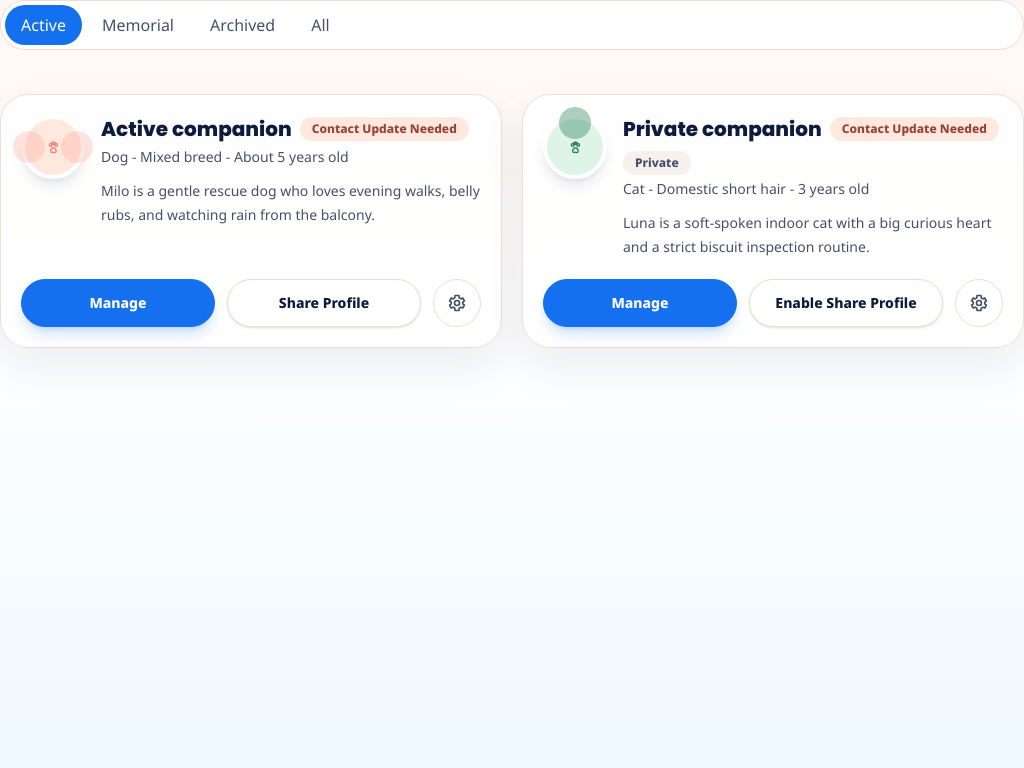
Test: keeps every status filter directly named and preserves filter semantics
Check: the heading "Active companion" is shown, box 101,115 -> 292,143
Check: the text "Private" is shown, box 623,151 -> 691,175
Click the tab "Memorial".
click(138, 25)  # box 86,5 -> 190,45
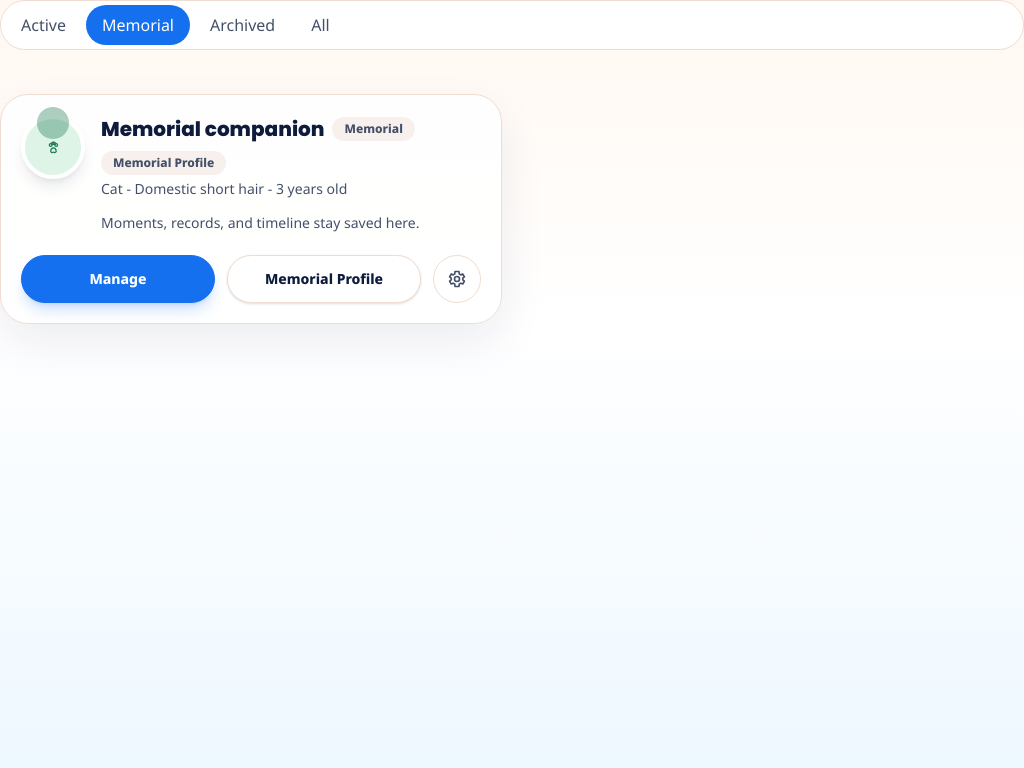
Check: the text "Memorial" next to "Memorial companion" is shown, box 344,120 -> 403,137
Click the tab "Archived".
click(243, 25)  # box 194,5 -> 291,45
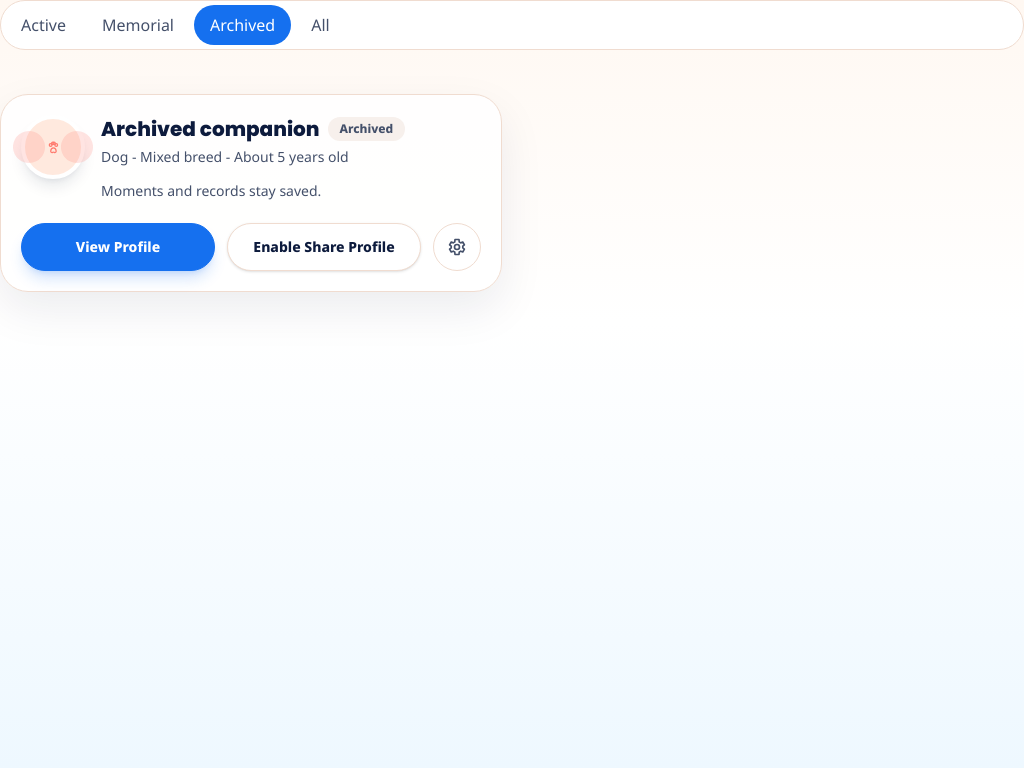
Check: the text "Archived" next to "Archived companion" is shown, box 340,120 -> 393,137
Check: the text "Moments and records stay saved." is shown, box 101,181 -> 321,200
Check: the link "Enable Share Profile" is shown, box 227,223 -> 421,271
Click the tab "All".
click(320, 25)  # box 295,5 -> 346,45
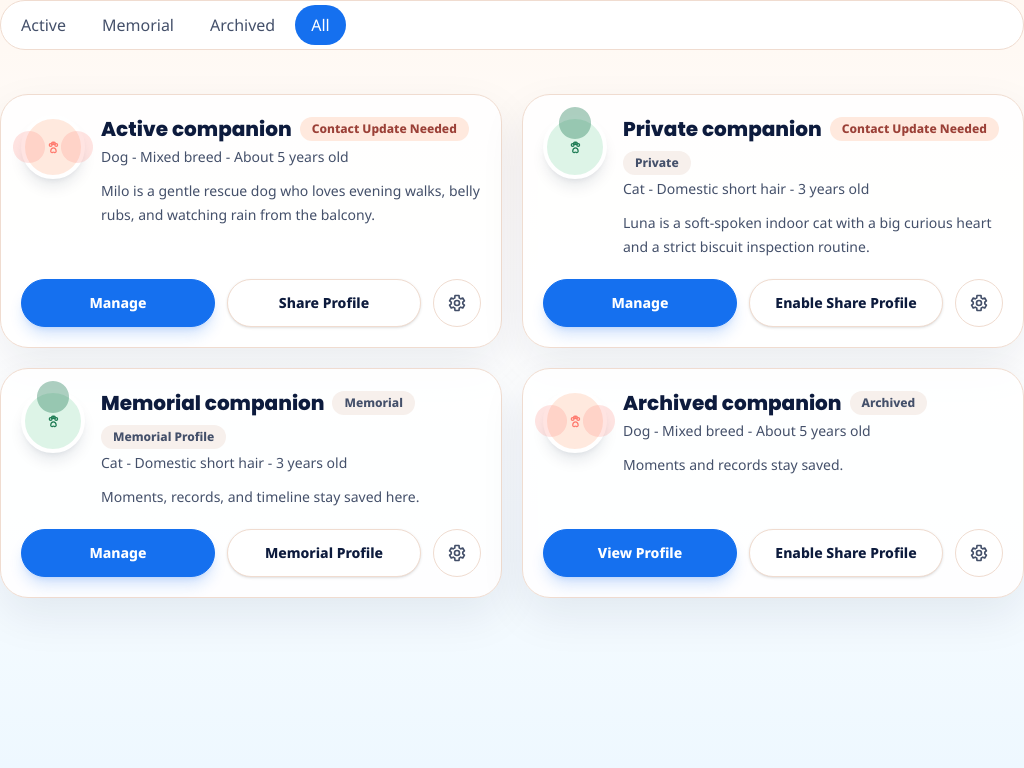
Check: the heading "Active companion" is shown, box 101,115 -> 292,143
Check: the heading "Private companion" is shown, box 623,115 -> 822,143
Check: the heading "Memorial companion" is shown, box 101,389 -> 324,417
